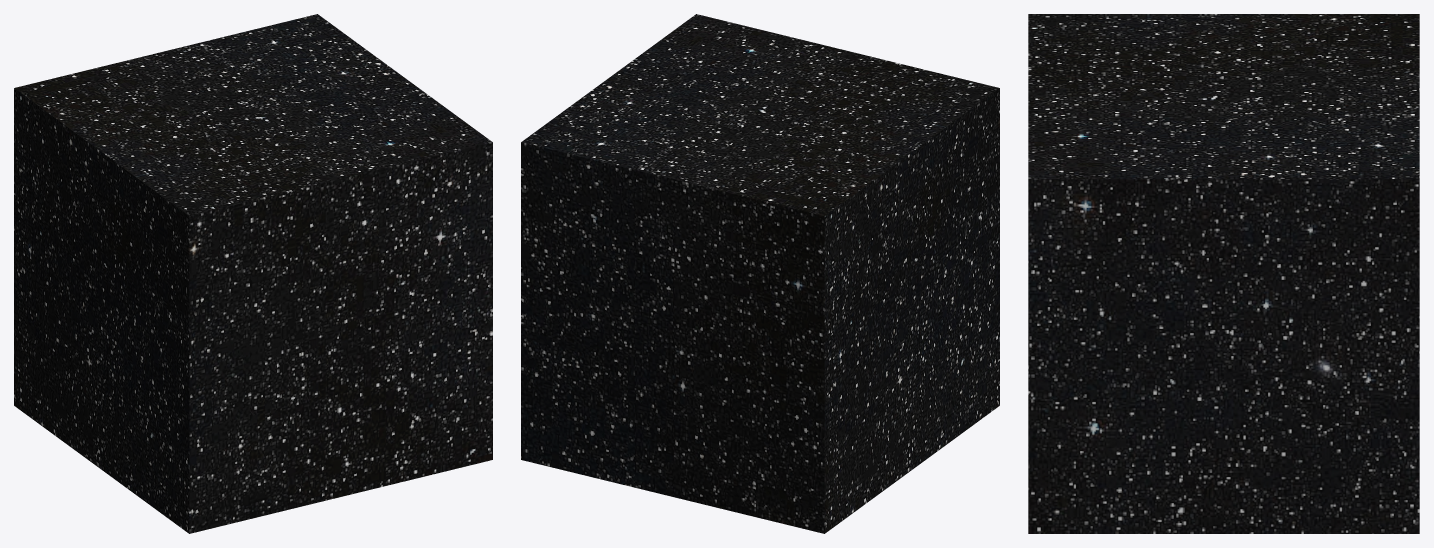
Rendered from NewSaturn_v01.fbx.
3 views of the same model, side by side, from view 1: azimuth 30°, elevation 25°; view 2: azimuth 150°, elevation 25°; view 3: azimuth 270°, elevation 25° (orthographic). The views are drawn at different scales.
Parts seen in each view (by area): view 1: Space; view 2: Space; view 3: Space.
Boxes of the visible parts, x1=… form: Space: x1=14, y1=14, x2=492, y2=533; Space: x1=521, y1=14, x2=999, y2=533; Space: x1=1028, y1=14, x2=1419, y2=533.
Size of the model in its own units: 550435 by 550435 by 550435.
